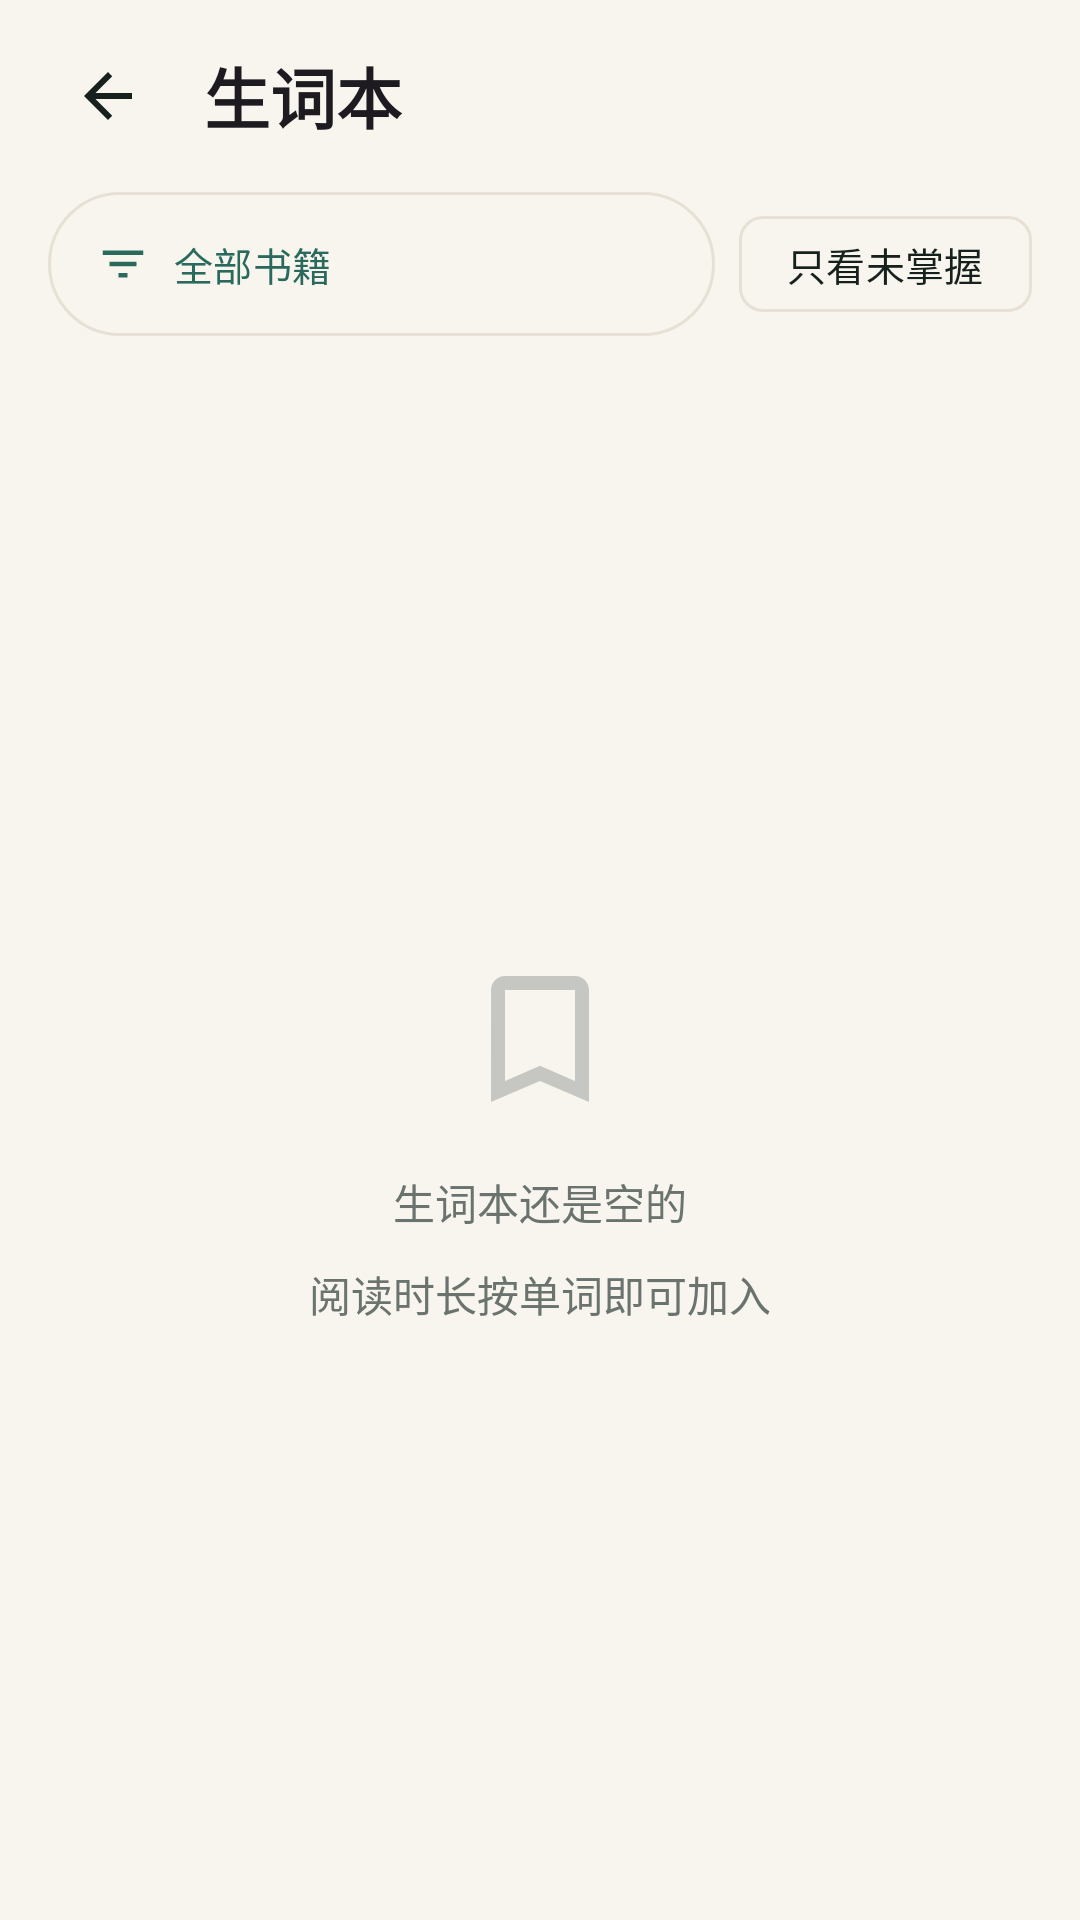

Point at icon controls on the screen. Image size 1080 x 1920, points as [x,y].
bookmark: [540,1039]
